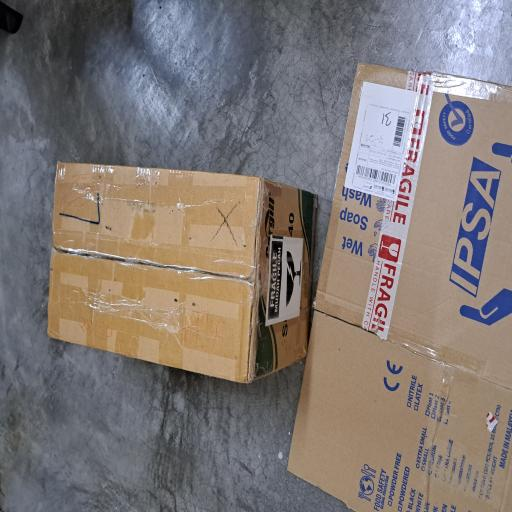cardboard: (99, 62, 260, 422), (0, 383, 336, 512)
